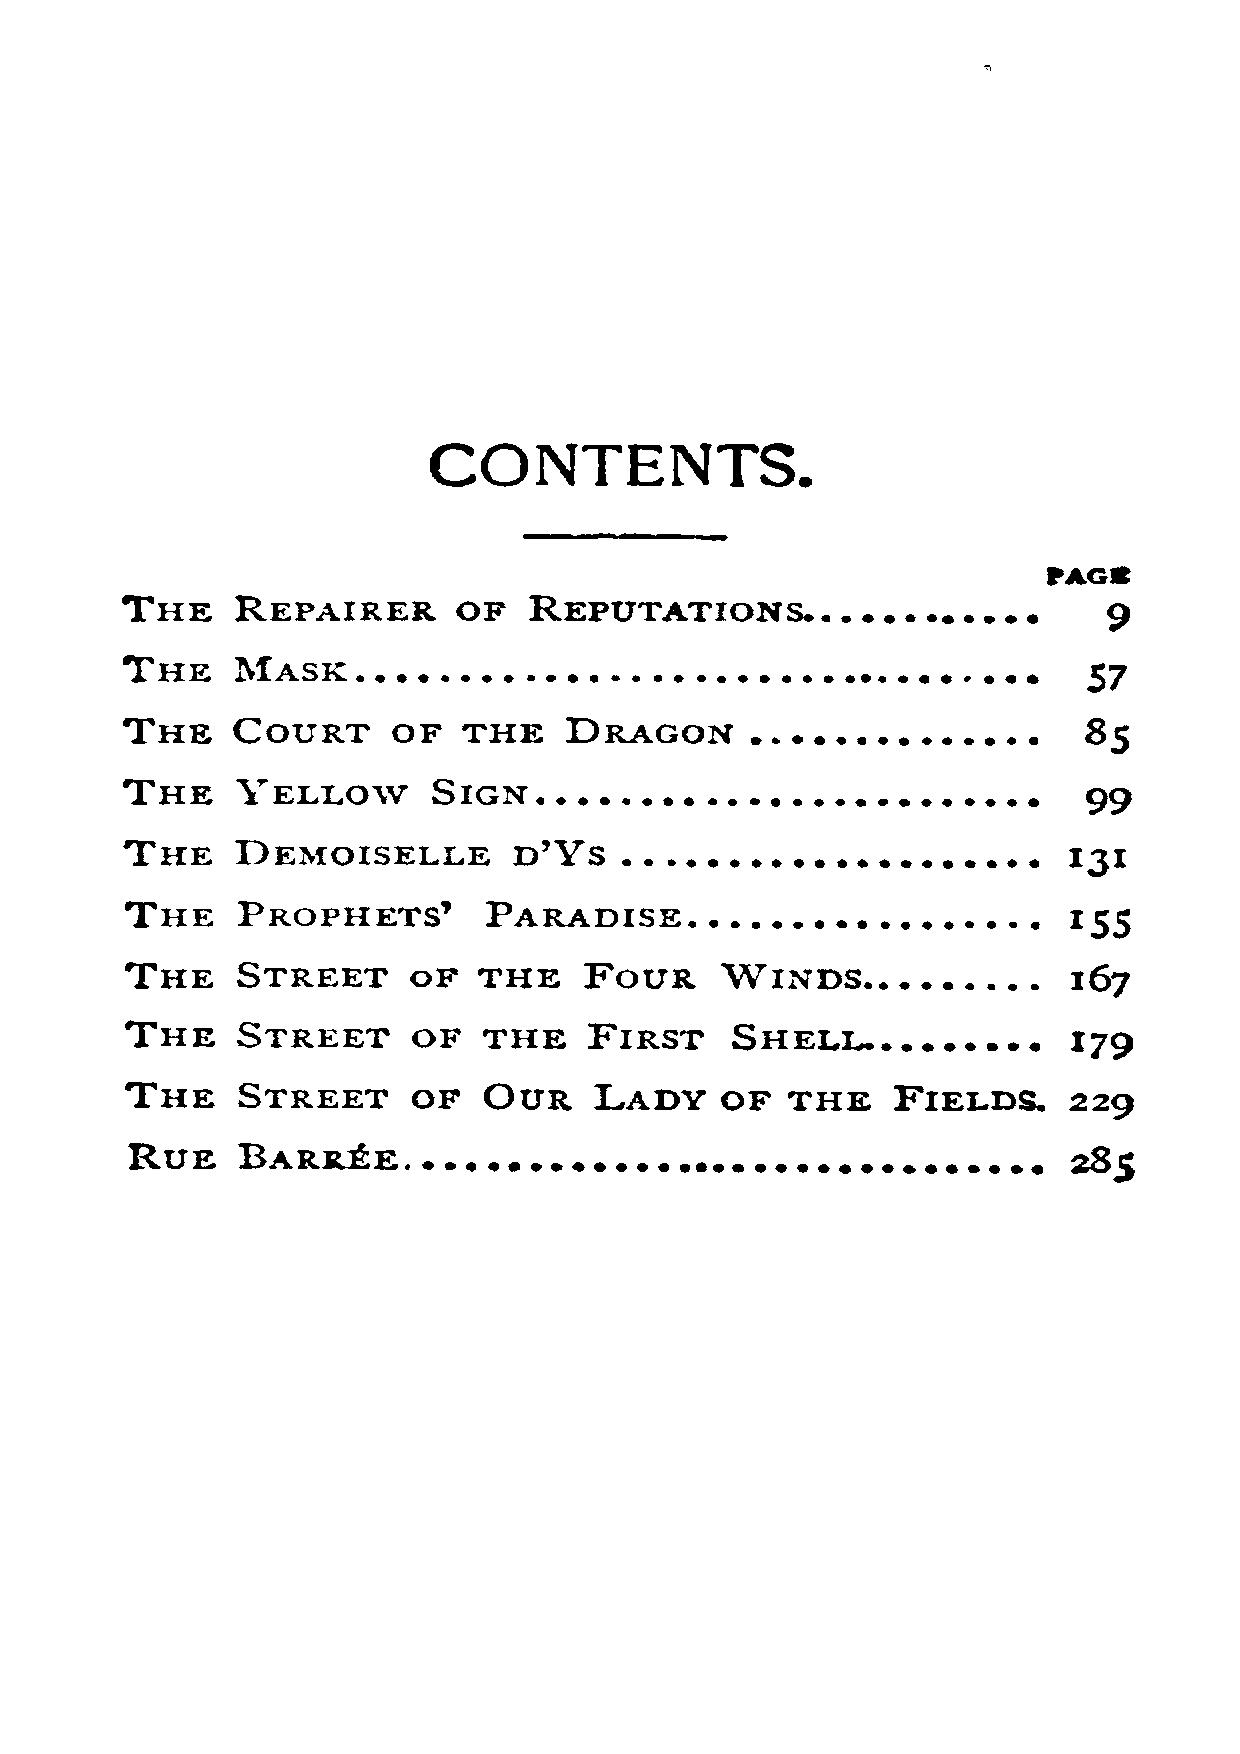TOC_chapter: (107, 1074, 1041, 1115), (117, 1011, 863, 1059), (119, 951, 862, 993), (118, 709, 733, 753), (117, 590, 815, 629), (121, 892, 687, 933), (117, 828, 613, 868), (117, 768, 530, 811), (123, 1138, 401, 1180), (123, 648, 344, 690)
TOC_pagenumber: (1070, 1082, 1143, 1123), (1066, 1142, 1138, 1184), (1067, 900, 1137, 943), (1070, 1023, 1137, 1064), (1082, 710, 1133, 758), (1079, 781, 1139, 821), (1067, 962, 1133, 998), (1064, 841, 1127, 878), (1082, 658, 1129, 698), (1096, 597, 1141, 637)
chapter: (420, 432, 820, 501)
